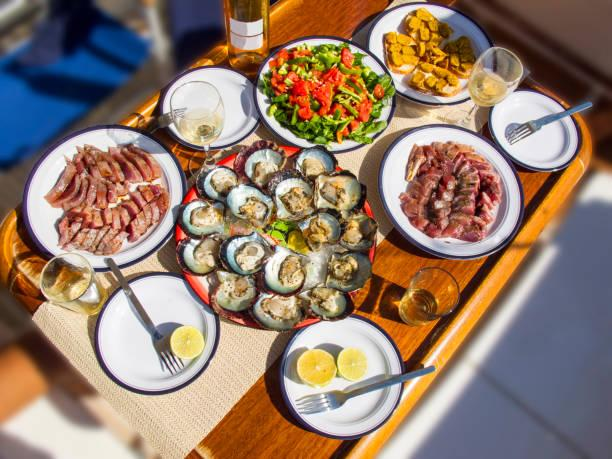Braised Crucian Carp: (176, 147, 369, 329), (21, 125, 186, 268), (376, 121, 527, 259), (254, 36, 391, 152), (366, 4, 498, 102)
